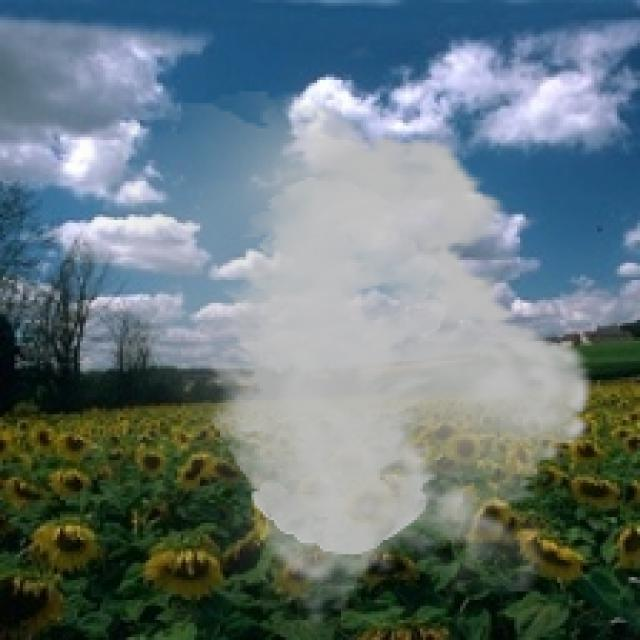Smoke: (51, 91, 614, 626)
